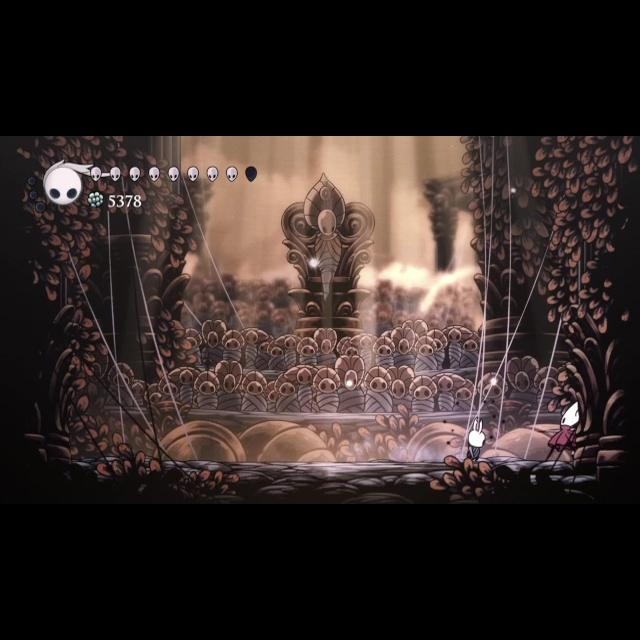EnemyLeadIn: (536, 399, 590, 466)
Player: (460, 416, 492, 470)
